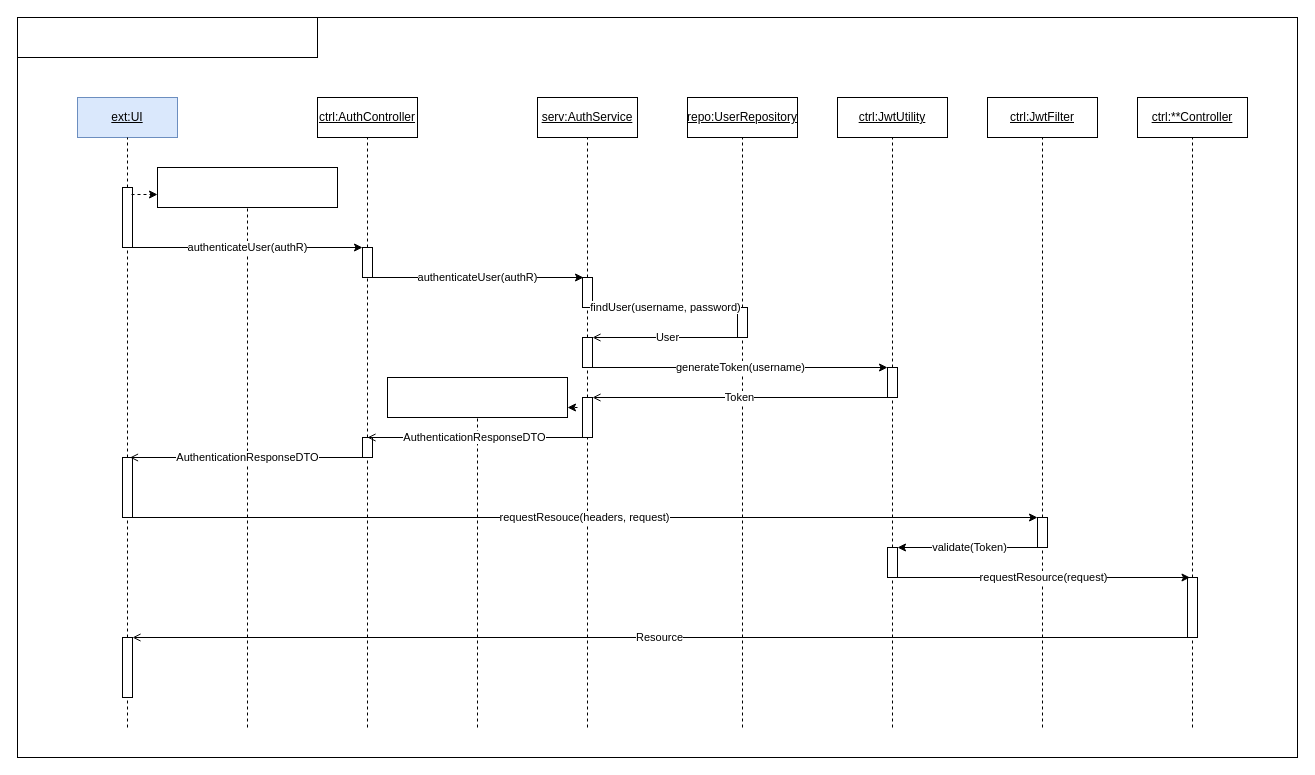
Image size: 1315x775. Some labels were removed from this diagram. The shapes that lost their labels are listed below. From the top down, each one's centre as x and y in pixels, then its label:
the point at 167,37: Default Authentication Flow with Resource Access
the point at 247,187: authR: AuthenticationRequestDTO
the point at 477,397: authR: AuthenticationResponseDTO
